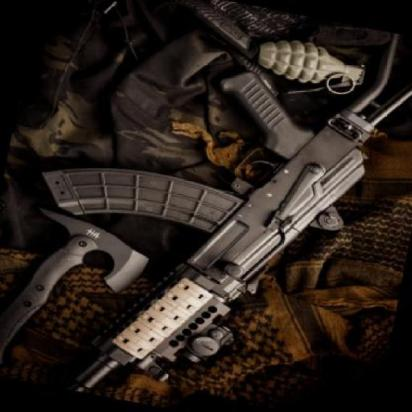Gun: (43, 26, 412, 395)
